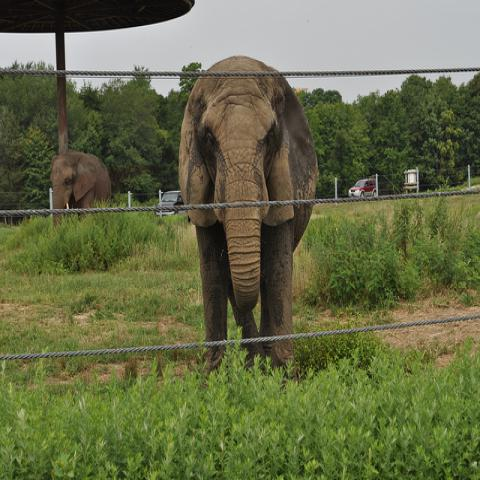car: (157, 191, 186, 216)
truck: (156, 190, 185, 217), (348, 179, 376, 197)
